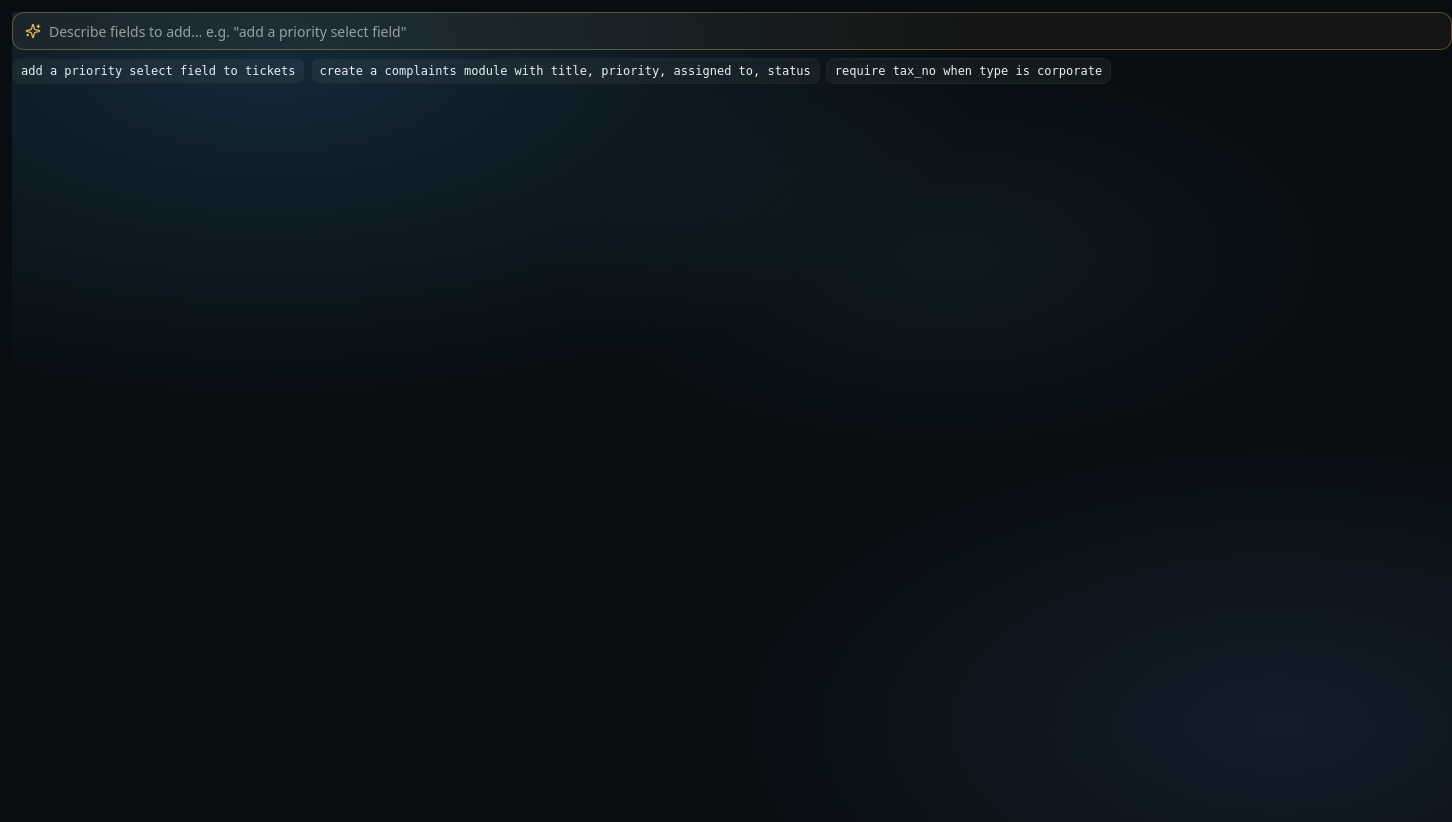
AiBar › unknown prompt shows honest fallback without apply button
This screenshot has width=1452, height=822.
In the field named "ai quick create": [744, 31] box 49,13 -> 1439,49, type "meaning of life"
Then press Enter
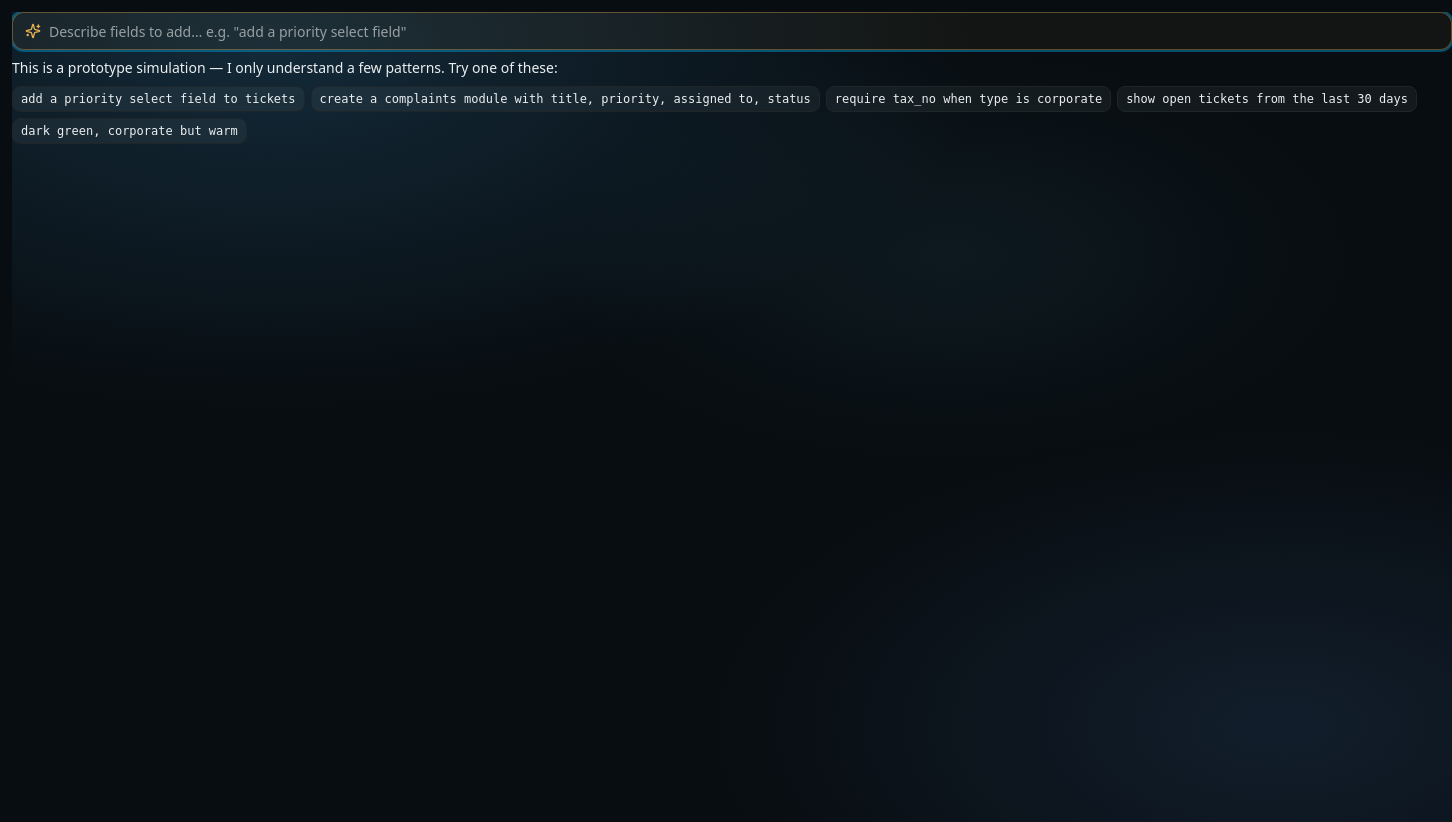
Expected: the text "prototype simulation" is shown, 12,58 -> 558,77
